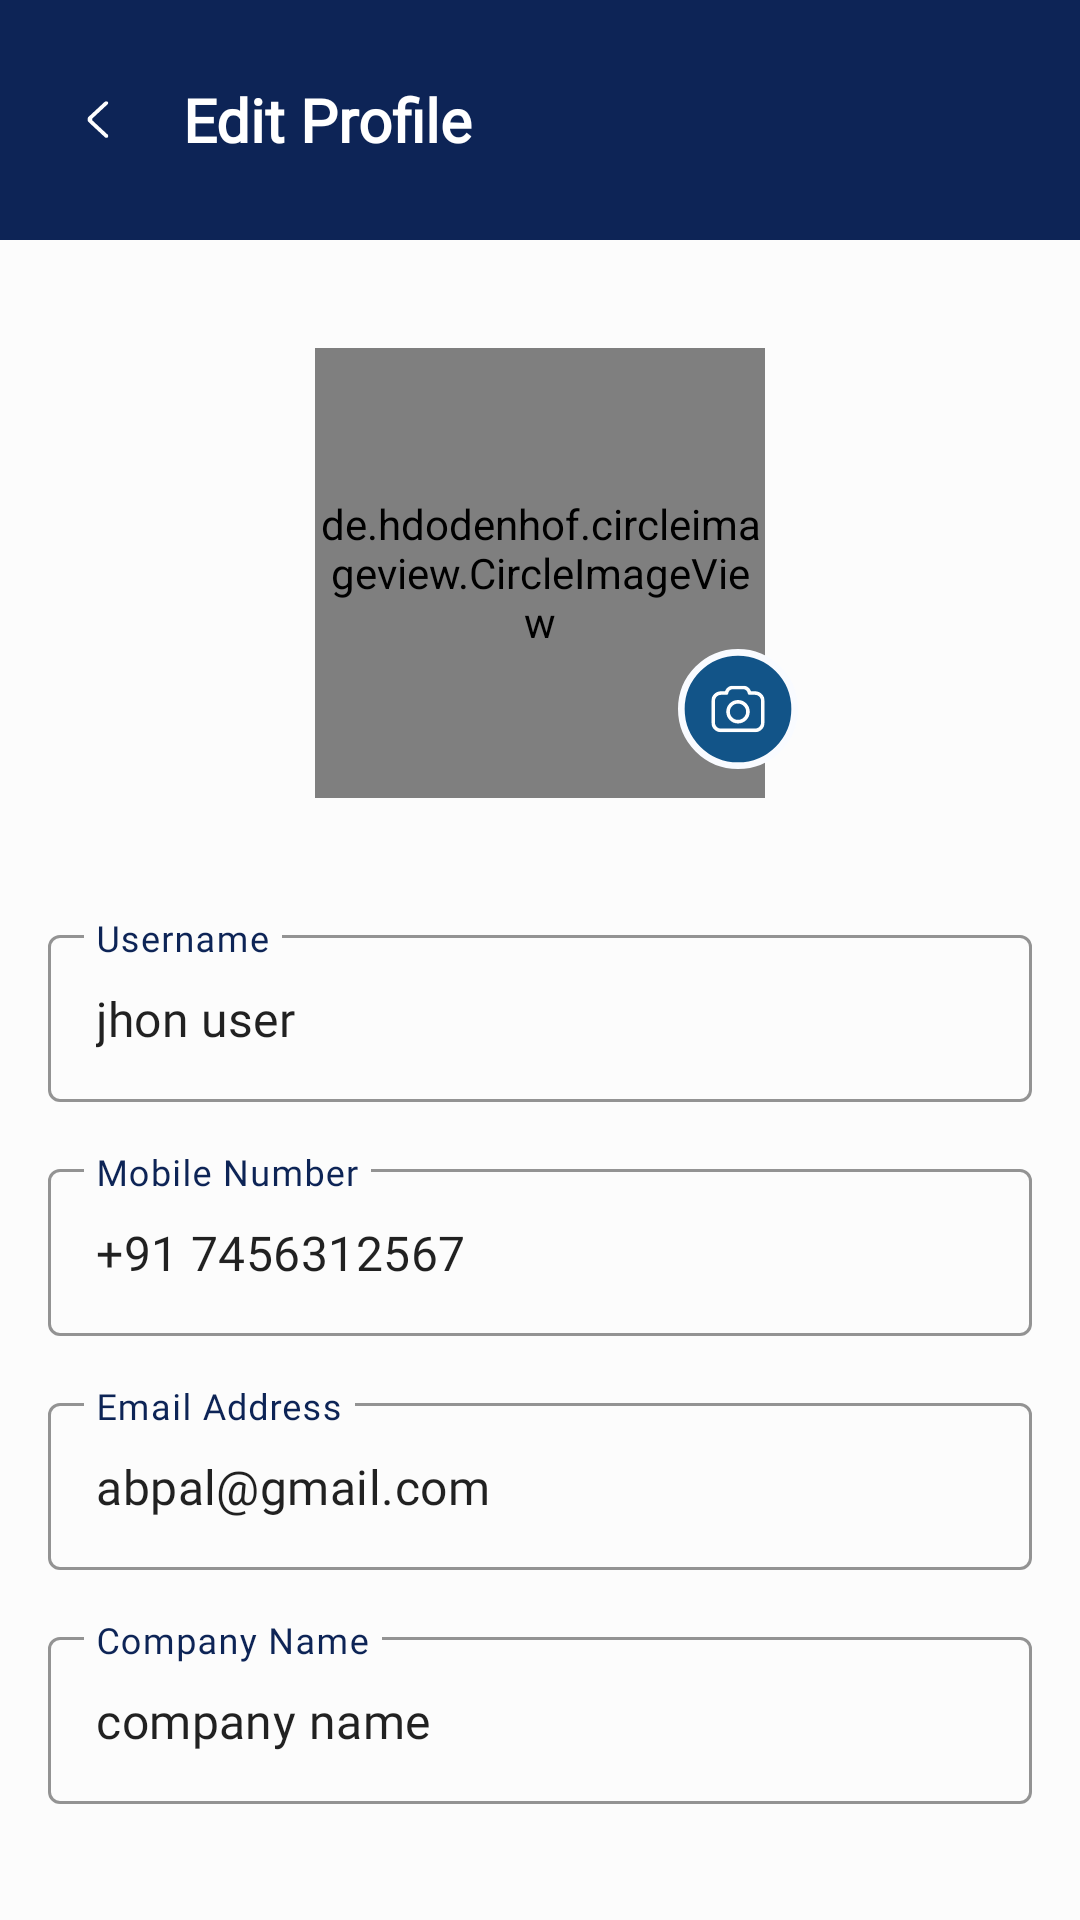

Icons on this 1080px x 1920px Android screen, each with the point to tap as [x,y]:
back arrow: [97,119]
upload: [738,709]
